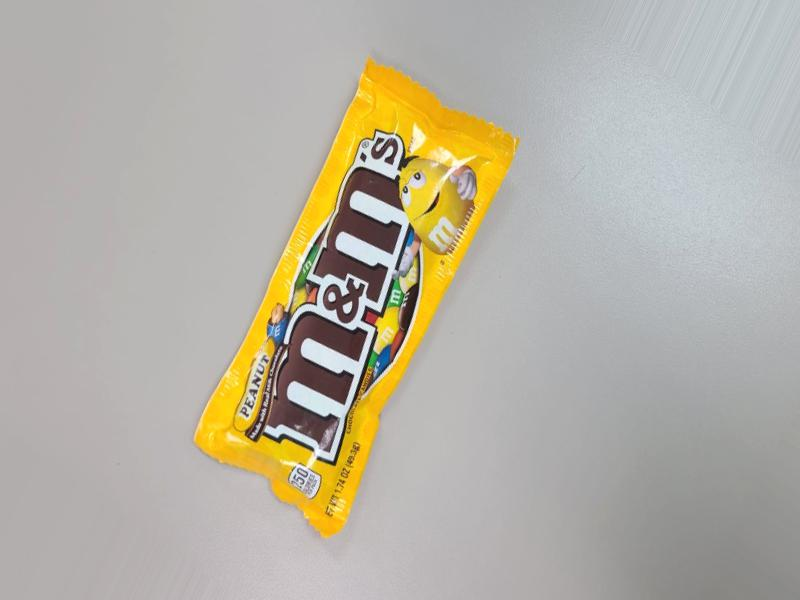m&m: (174, 92, 479, 535)
